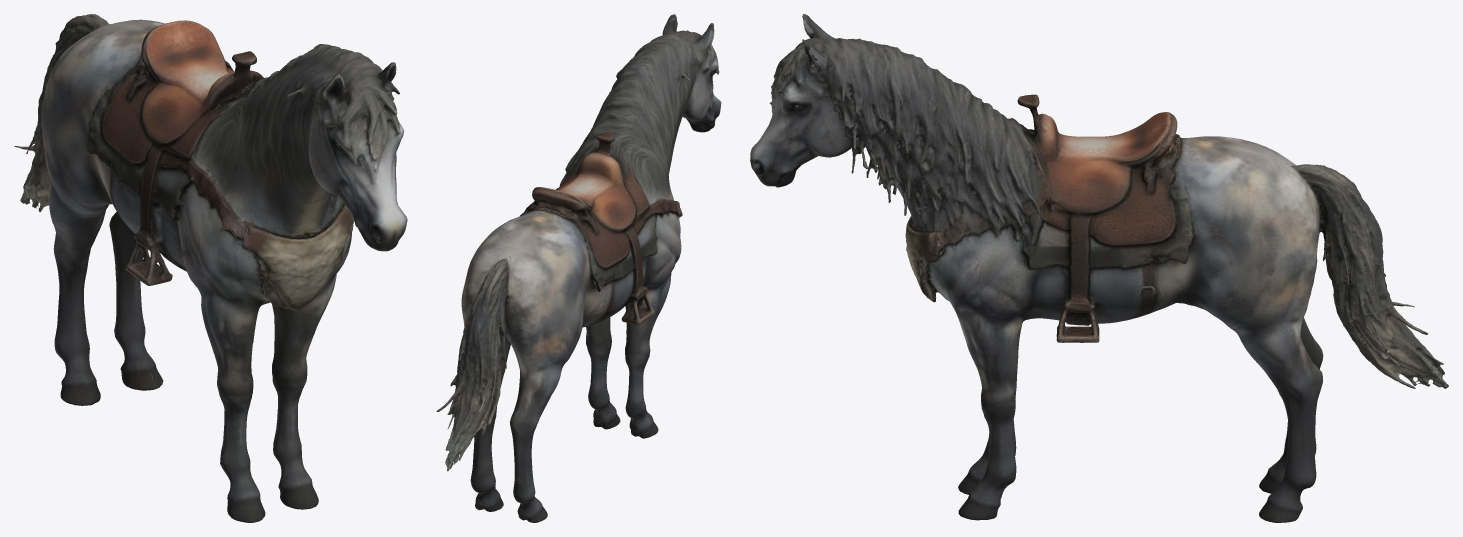
Rendered from Old Warhorse_final.glb.
The picture shows the model from 3 angles, left to right: view 1: azimuth 30°, elevation 25°; view 2: azimuth 150°, elevation 25°; view 3: azimuth 270°, elevation 25°; orthographic projection. The views are drawn at different scales.
Visible parts, largest first — view 1: Mesh_0; view 2: Mesh_0; view 3: Mesh_0.
Part boxes in pixels (x1,y1,x2,y2): Mesh_0: (14,14,407,522); Mesh_0: (436,14,721,522); Mesh_0: (750,14,1448,522).
Bounding box in the file's own units: 0.6848 × 2 × 2.66.
1 material, 1 textured.
